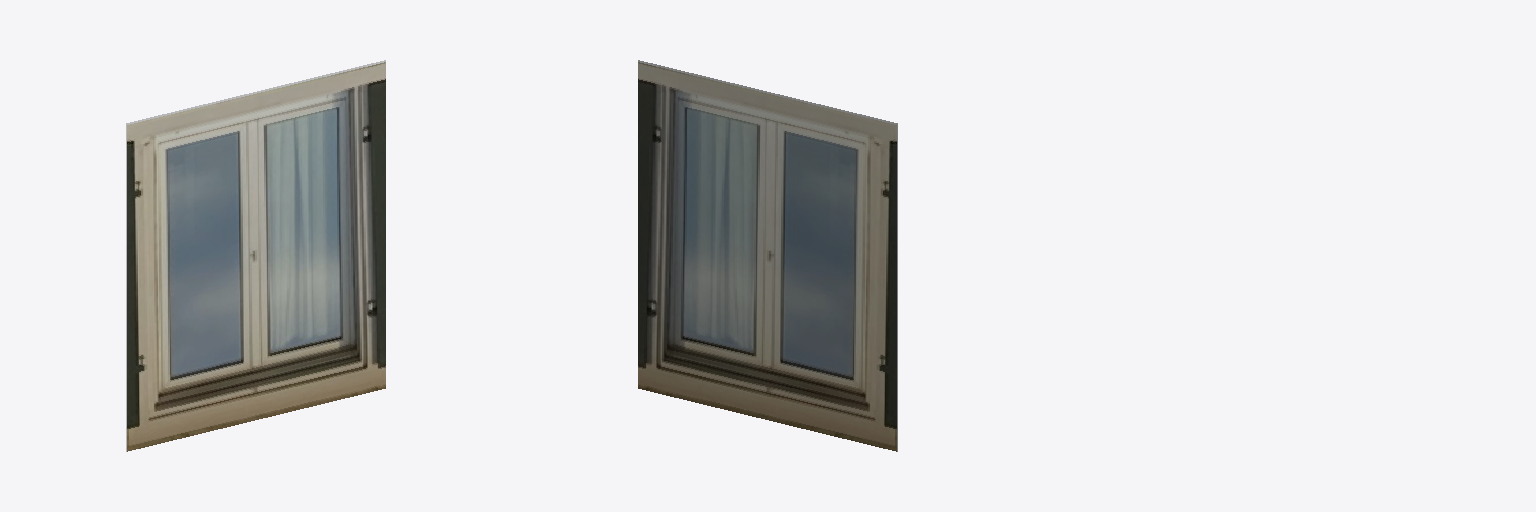
3 views of the same model, side by side, from view 1: azimuth 30°, elevation 25°; view 2: azimuth 150°, elevation 25°; view 3: azimuth 270°, elevation 25° (orthographic).
Size of the model in its own units: 257 by 310 by 0.
1 materials, 1 textured.